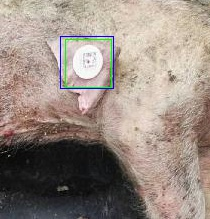text: (65, 39, 111, 87)
